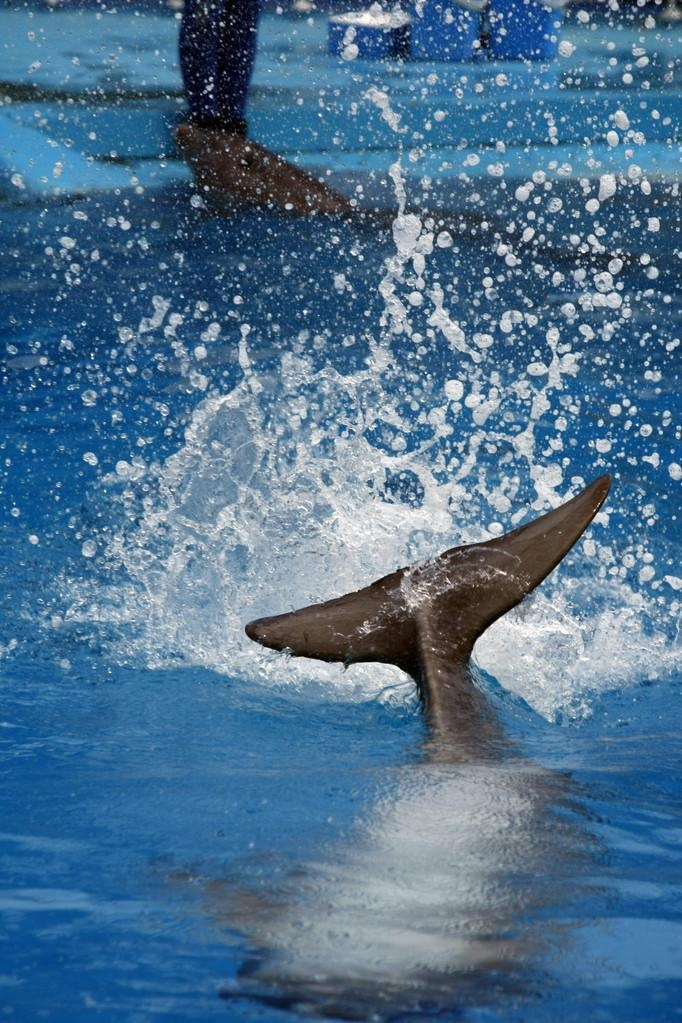fish: (243, 472, 589, 1022)
